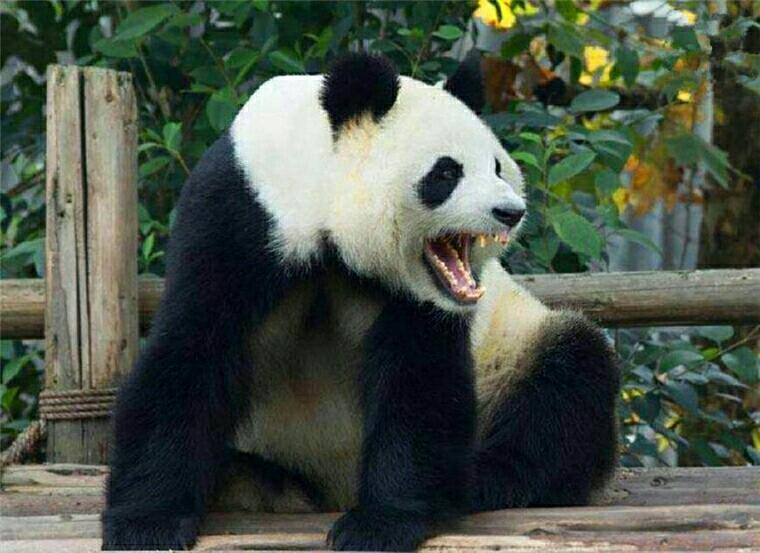panda: (90, 46, 629, 553)
